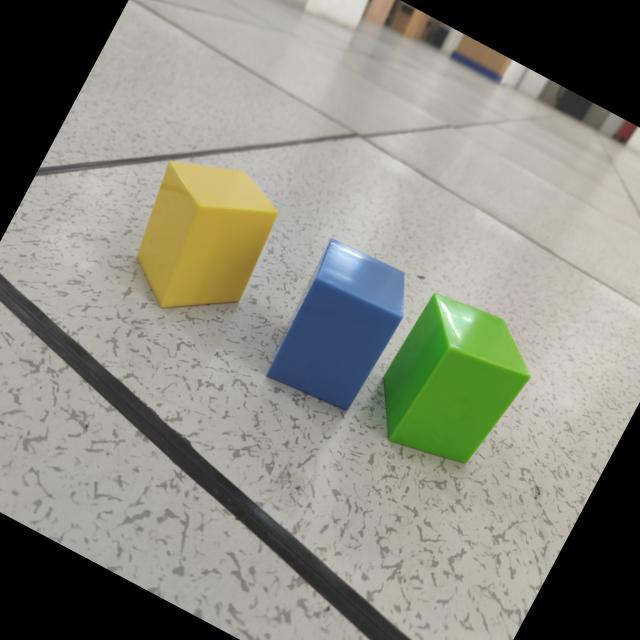blue: (265, 240, 405, 412)
green: (381, 294, 530, 465)
yellow: (136, 162, 277, 311)
